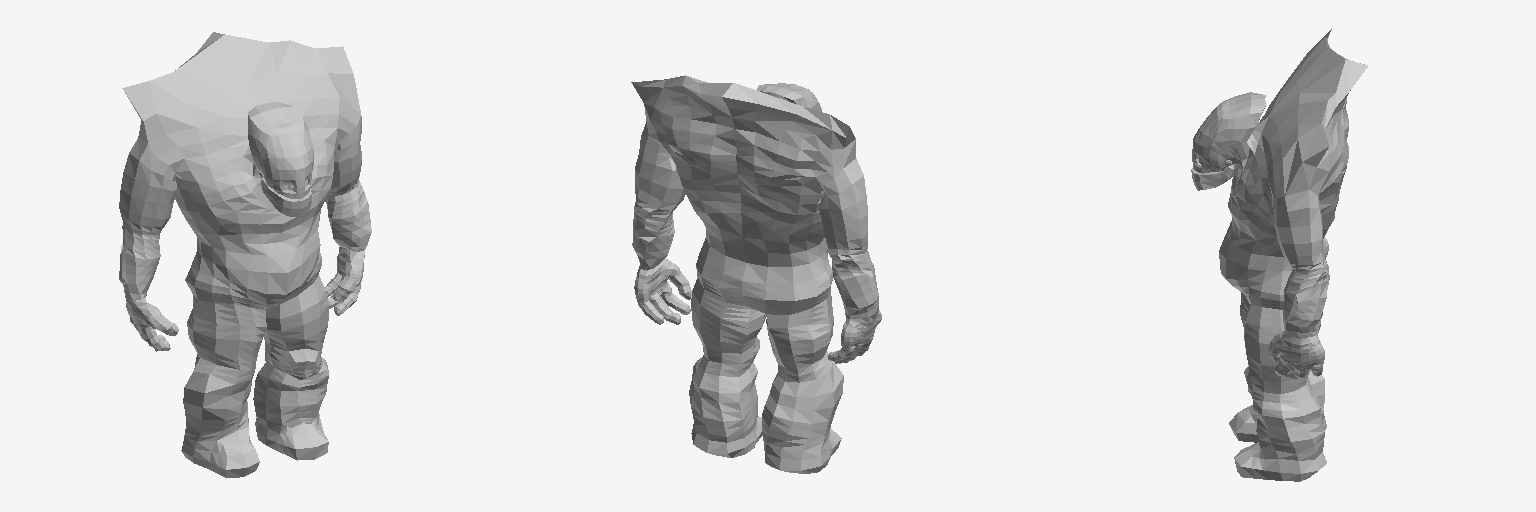
The model's file is golem_000008.obj.
3 renders of one model, left to right at view 1: azimuth 30°, elevation 25°; view 2: azimuth 150°, elevation 25°; view 3: azimuth 270°, elevation 25°, orthographic.
Visible parts, largest first — view 1: golem; view 2: golem; view 3: golem.
Part boxes in pixels (bbox=[...]): golem: bbox=[119, 32, 371, 477]; golem: bbox=[631, 75, 881, 473]; golem: bbox=[1191, 29, 1367, 481].
Size of the model in its own units: 7.35 by 11.3 by 4.61.